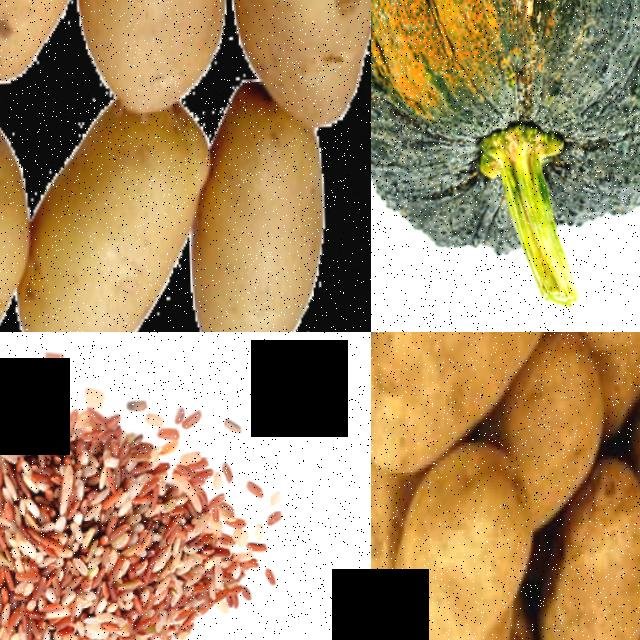potato: (19, 104, 193, 332), (204, 88, 329, 332), (371, 332, 566, 483), (391, 449, 535, 640), (226, 0, 371, 130), (83, 0, 234, 124), (536, 475, 640, 640)
pumpkin: (371, 0, 640, 273)
red rice: (0, 392, 262, 640)
